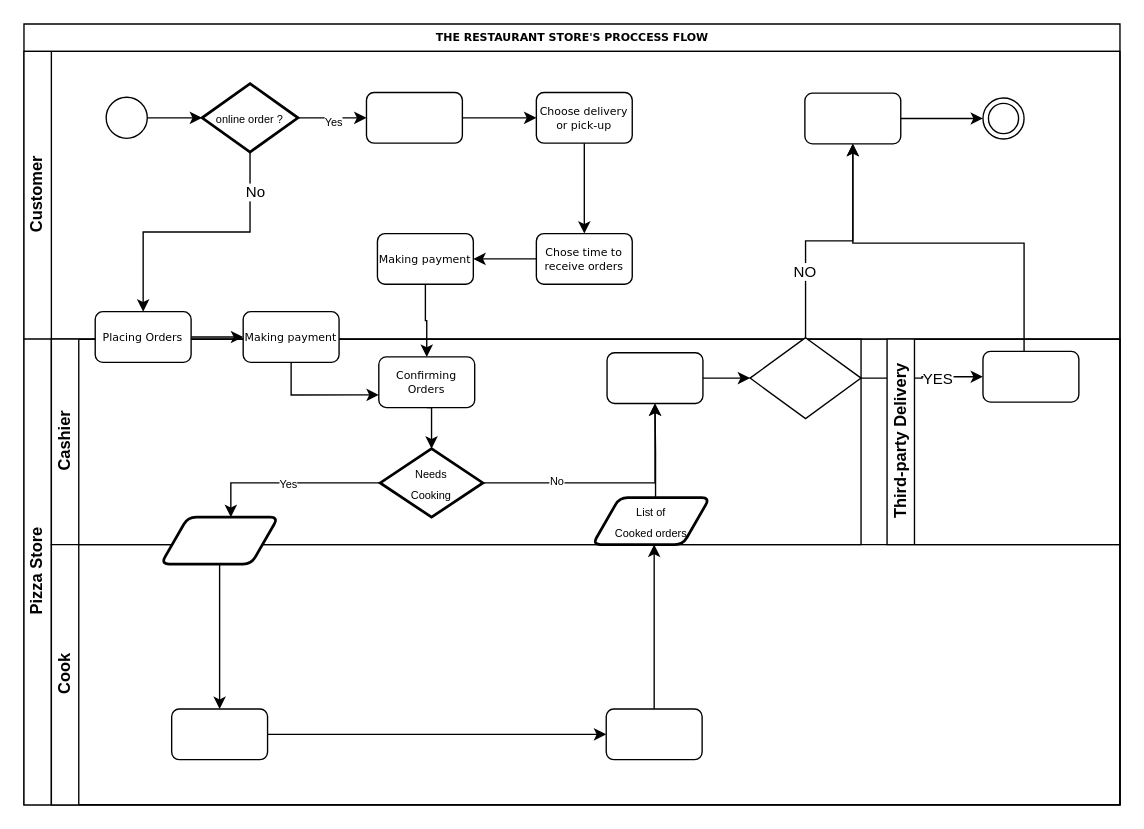
The diagram is 1144 pixels wide and 829 high, and some of its shapes have lost their labels. Here are the shapes that lost their labels. From the top down, the centre of each, then its label:
point (413, 117): Customer places order
point (852, 118): Receiving order
point (654, 377): Packaging orders
point (805, 377): For Delivery
point (1030, 376): Deliver order
point (219, 540): list of orders
point (219, 734): Preparing orders
point (653, 734): Cooking order (oven)
